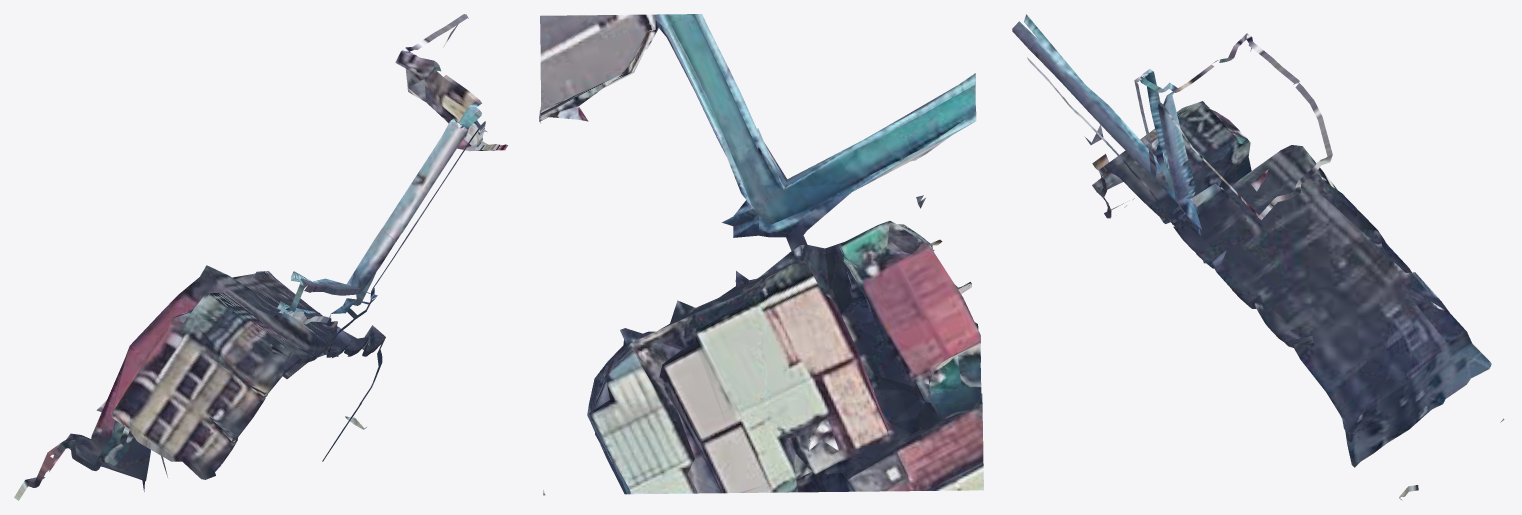
The picture shows the model from 3 angles, left to right: view 1: azimuth 30°, elevation 25°; view 2: azimuth 150°, elevation 25°; view 3: azimuth 270°, elevation 25°; orthographic projection. The views are drawn at different scales.
Bounding box in the file's own units: 42.71 × 38.2 × 38.33.
Materials: 1 (1 with a texture image).
